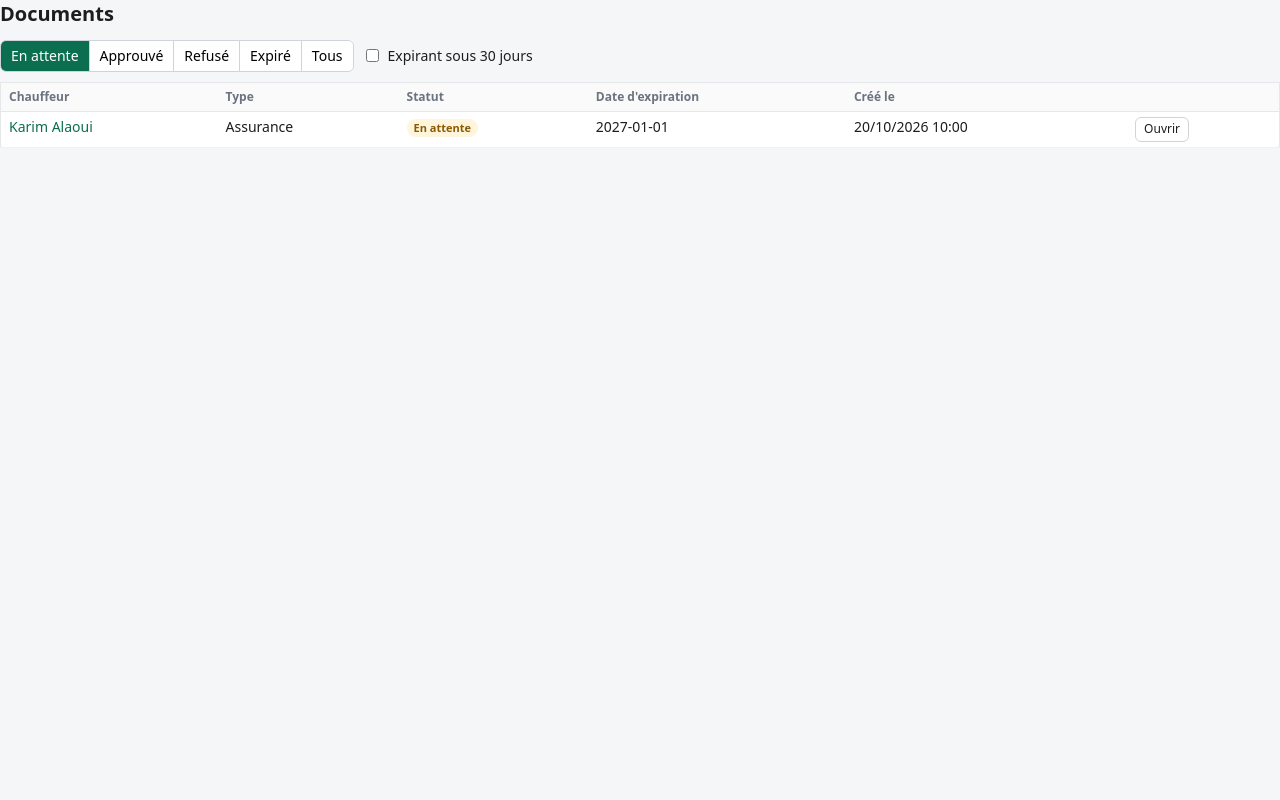
Test case: Documents › approve without changing the expiry → POST approve {}
Click the button "Ouvrir". click: (1162, 130)
box: [1135,117,1189,142]
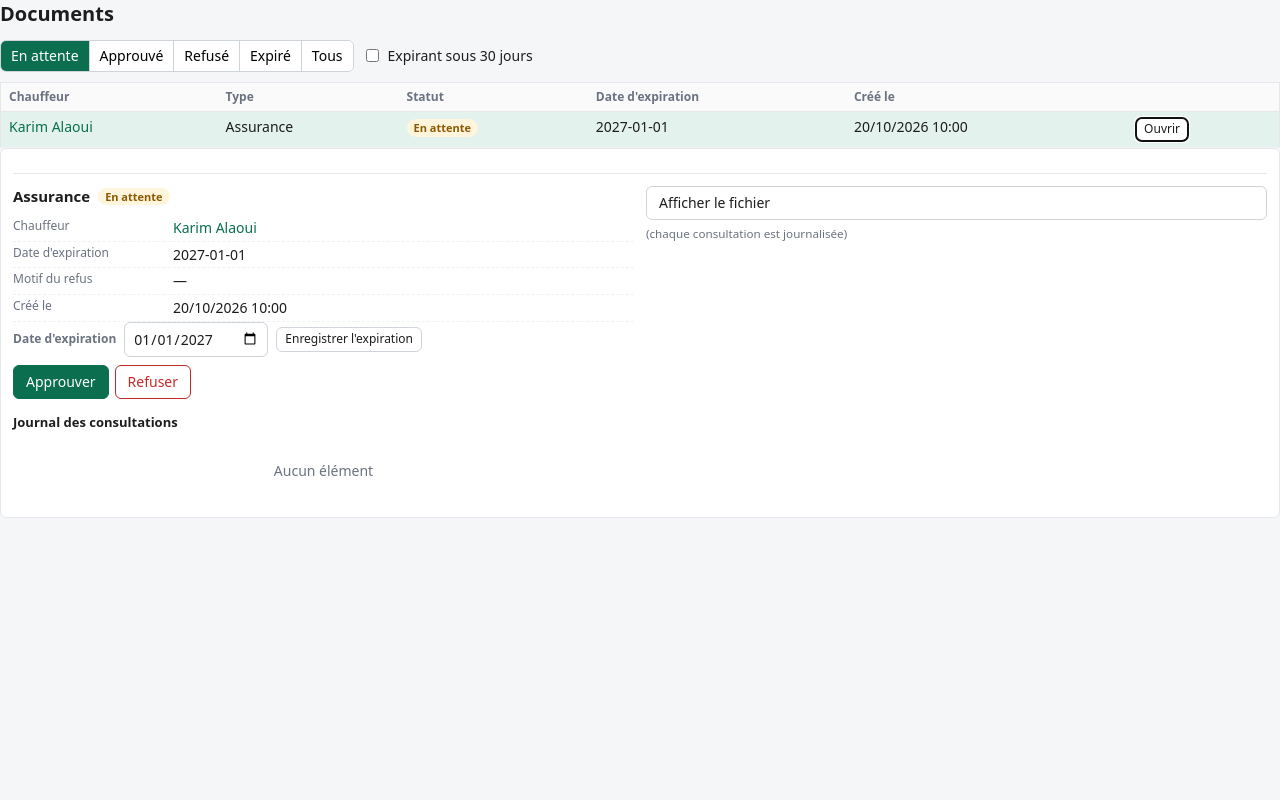
expect the element with test id "doc-panel" is shown: met, box [13,173,1267,504]
Click the button "Approuver". click: (61, 382)
box: [13,365,109,399]
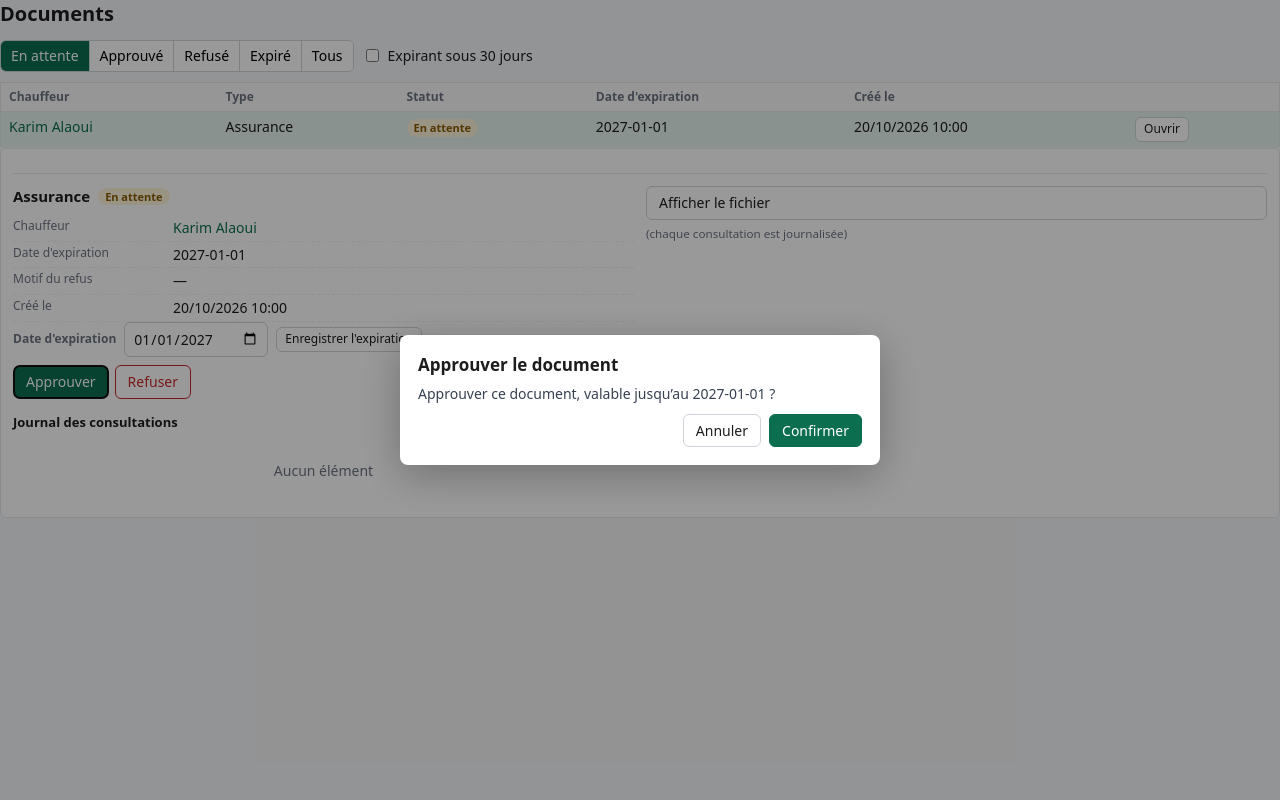
Click the button "Confirmer". click: (816, 431)
box: [769,414,862,448]
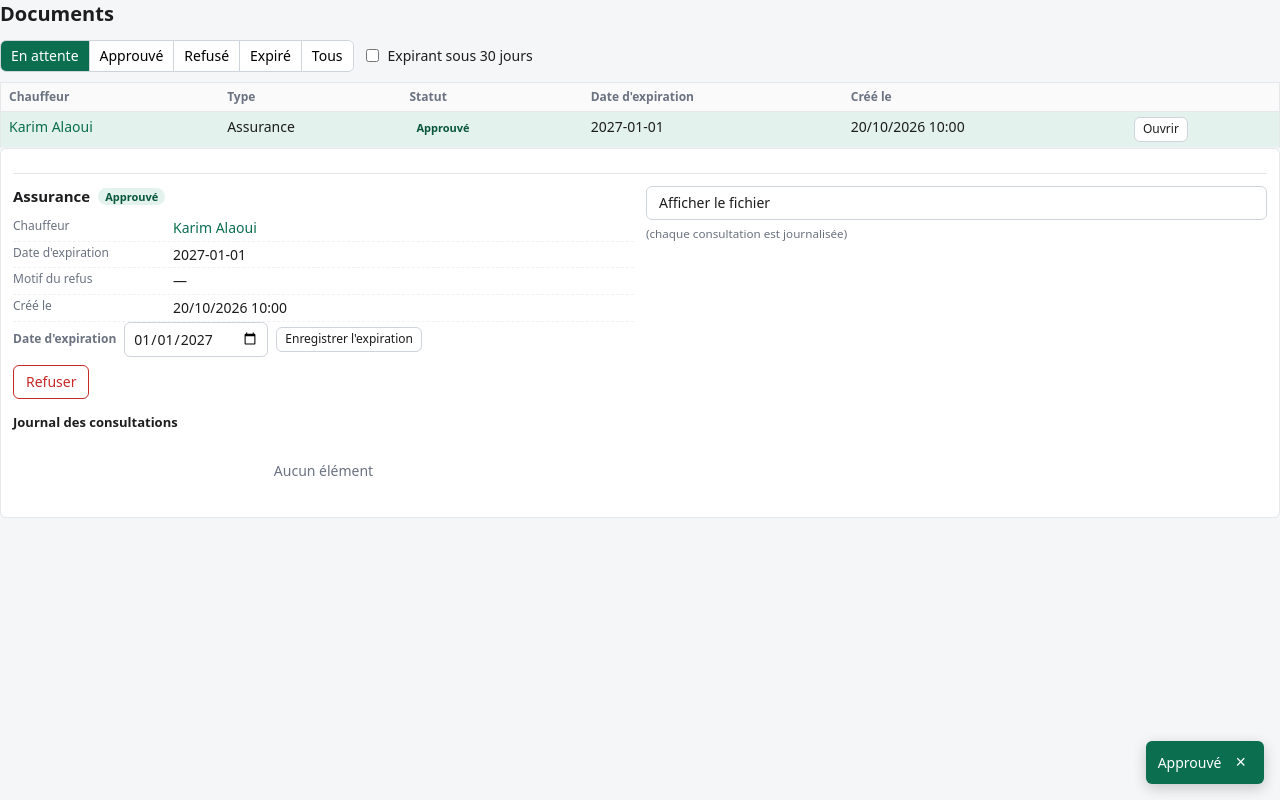
expect the 3rd text "Approuvé" is shown: met, box [1158,753,1222,772]
expect the text "Approuvé" below "Type" is shown: met, box [416,120,470,135]
